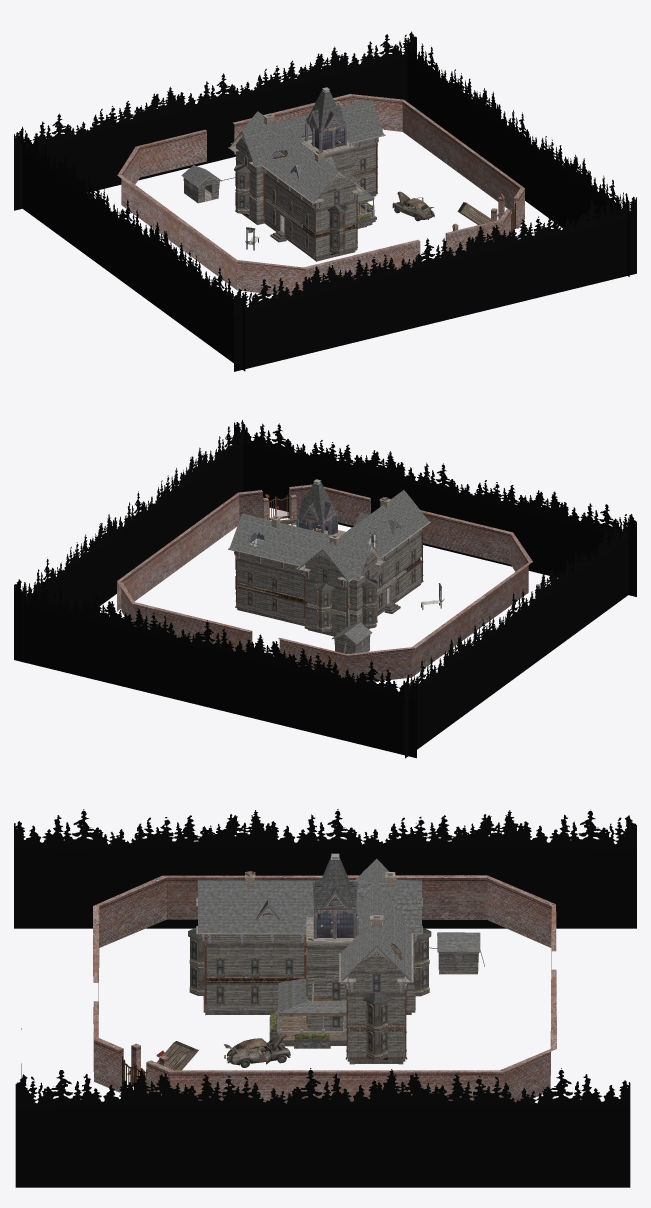
The model's file is granny_map.glb.
3 views of the same model, one above another, from view 1: azimuth 30°, elevation 25°; view 2: azimuth 150°, elevation 25°; view 3: azimuth 270°, elevation 25° (orthographic). The views are drawn at different scales.
Parts seen in each view (by area): view 1: Trees, Ground_Mur, Tak_Torn_Old, PL1Walls_Old, PL2Walls_Old, PL3Walls_Old, Veranda_Old, Window_Stupranna, Old_Car, Gate_Bro; view 2: Trees, Ground_Mur, Tak_Torn_Old, PL1Walls_Old, PL2Walls_Old, PL3Walls_Old, Window_Stupranna, Veranda_Old, Gate_Bro; view 3: Trees, Ground_Mur, Tak_Torn_Old, Veranda_Old, PL2Walls_Old, PL1Walls_Old, PL3Walls_Old, Window_Stupranna, Old_Car, Gate_Bro, TornWindows.
Boxes of the visible parts, bbox=[...] form: Trees: bbox=[14, 31, 636, 371]; Ground_Mur: bbox=[117, 94, 524, 295]; Tak_Torn_Old: bbox=[181, 87, 385, 209]; PL1Walls_Old: bbox=[235, 159, 377, 261]; PL2Walls_Old: bbox=[236, 145, 377, 233]; PL3Walls_Old: bbox=[235, 133, 377, 210]; Veranda_Old: bbox=[234, 137, 378, 253]; Window_Stupranna: bbox=[235, 139, 378, 258]; Old_Car: bbox=[392, 191, 434, 221]; Gate_Bro: bbox=[457, 202, 515, 232]; Trees: bbox=[14, 420, 636, 758]; Ground_Mur: bbox=[117, 484, 532, 681]; Tak_Torn_Old: bbox=[228, 479, 430, 653]; PL1Walls_Old: bbox=[235, 532, 422, 636]; PL2Walls_Old: bbox=[235, 534, 421, 611]; PL3Walls_Old: bbox=[235, 529, 422, 589]; Window_Stupranna: bbox=[234, 528, 423, 627]; Veranda_Old: bbox=[234, 551, 378, 632]; Gate_Bro: bbox=[263, 493, 320, 532]; Trees: bbox=[14, 809, 636, 1187]; Ground_Mur: bbox=[93, 875, 556, 1103]; Tak_Torn_Old: bbox=[196, 853, 480, 992]; Veranda_Old: bbox=[188, 928, 431, 1060]; PL2Walls_Old: bbox=[203, 915, 415, 1025]; PL1Walls_Old: bbox=[203, 930, 415, 1064]; PL3Walls_Old: bbox=[203, 914, 415, 994]; Window_Stupranna: bbox=[190, 937, 428, 1059]; Old_Car: bbox=[224, 1033, 290, 1067]; Gate_Bro: bbox=[122, 920, 330, 1089]; TornWindows: bbox=[317, 911, 353, 937].
Size of the model in its own units: 85.62 by 30.36 by 83.15.
Materials: 52 (51 with a texture image).
